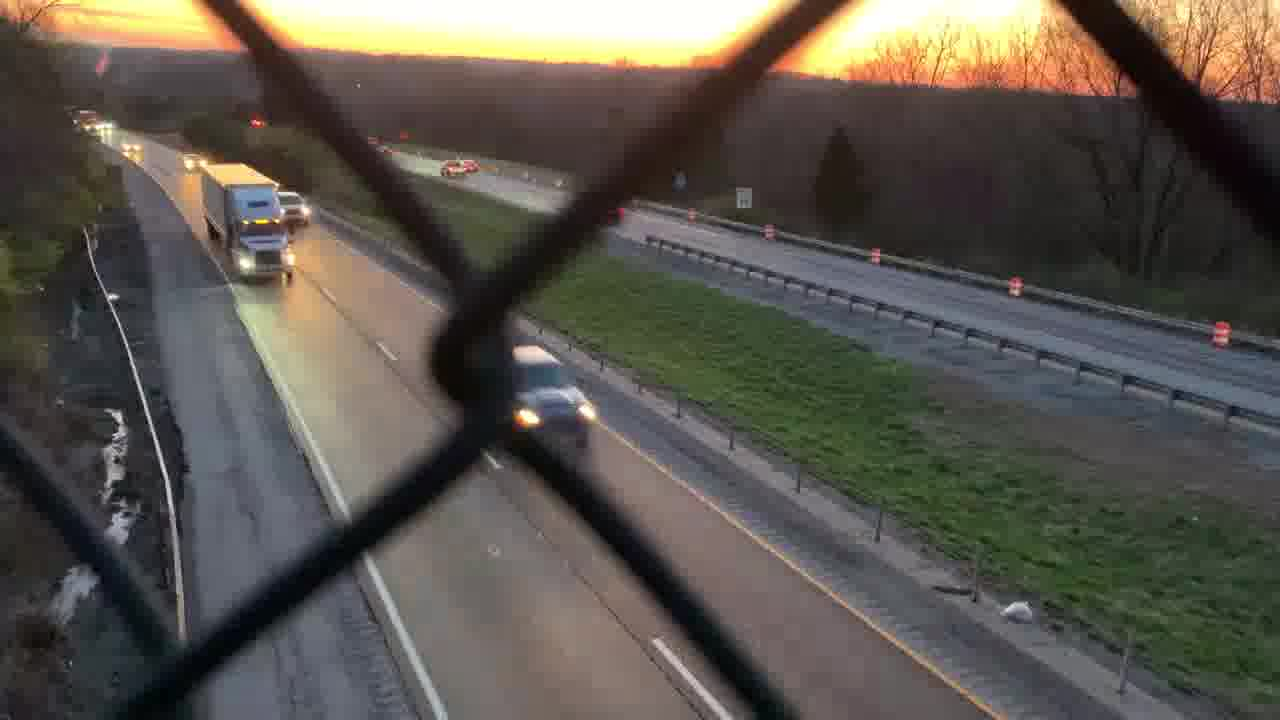heavyTruck: (191, 160, 297, 293)
